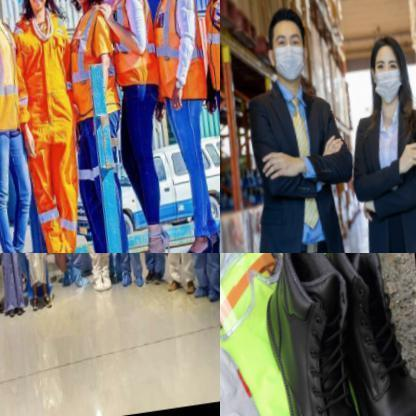vest: (220, 253, 415, 415), (7, 5, 97, 252), (60, 5, 128, 126), (148, 0, 211, 114), (102, 0, 165, 100), (0, 3, 33, 143), (196, 0, 219, 107), (149, 253, 204, 288), (0, 253, 35, 306), (71, 253, 122, 280), (20, 253, 56, 279)
